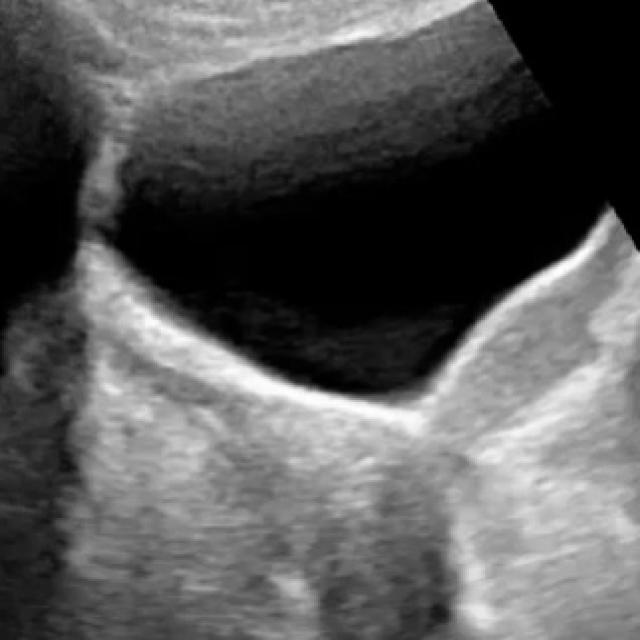bladder: (94, 5, 620, 424)
